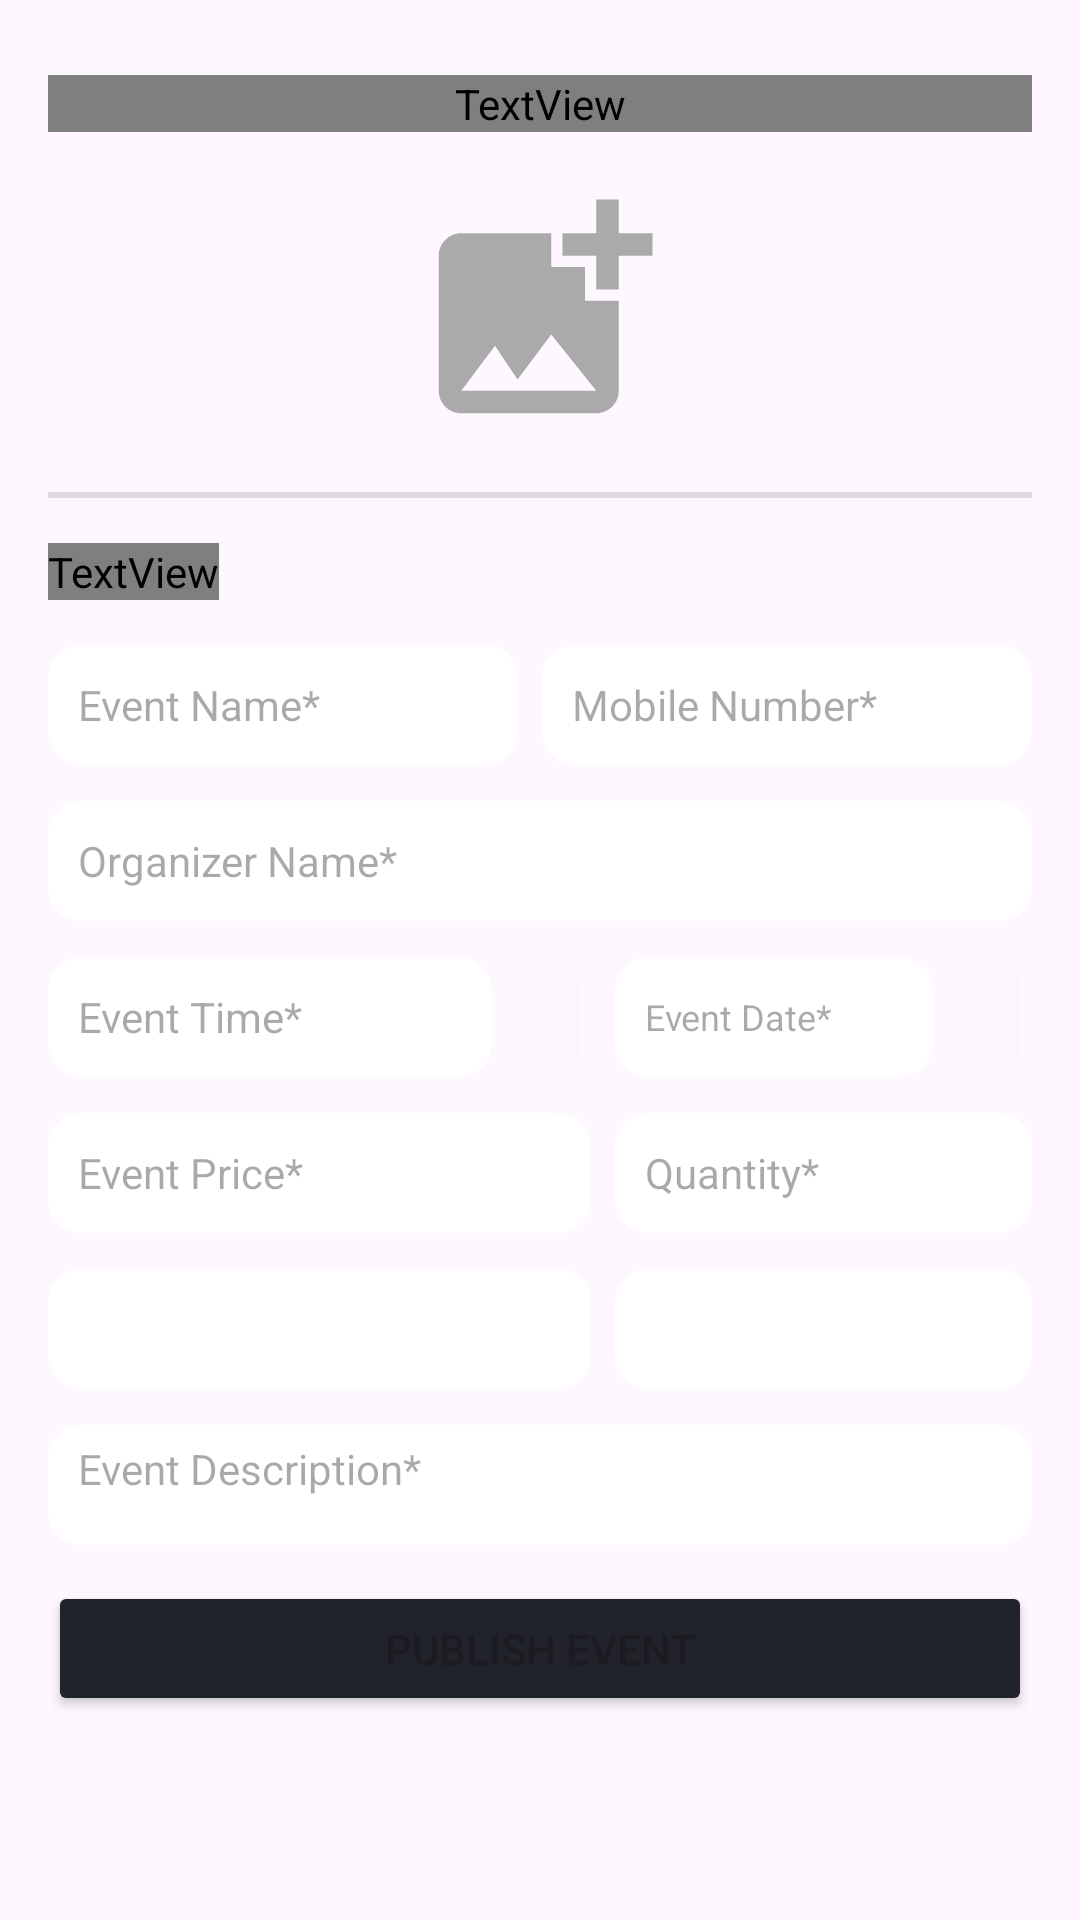

Named icons in this screenshot (1080w x 1920h) and their bounding boxes, box=[x1, y1, x2, y2]:
add photo alternate: box=[439, 199, 653, 413]
